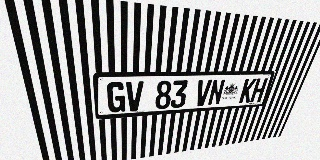3: (170, 80, 188, 108)
8: (155, 80, 173, 109)
G: (107, 82, 125, 113)
H: (250, 78, 268, 102)
K: (238, 78, 257, 103)
N: (207, 79, 226, 106)
V: (126, 81, 144, 112), (194, 79, 212, 107)
